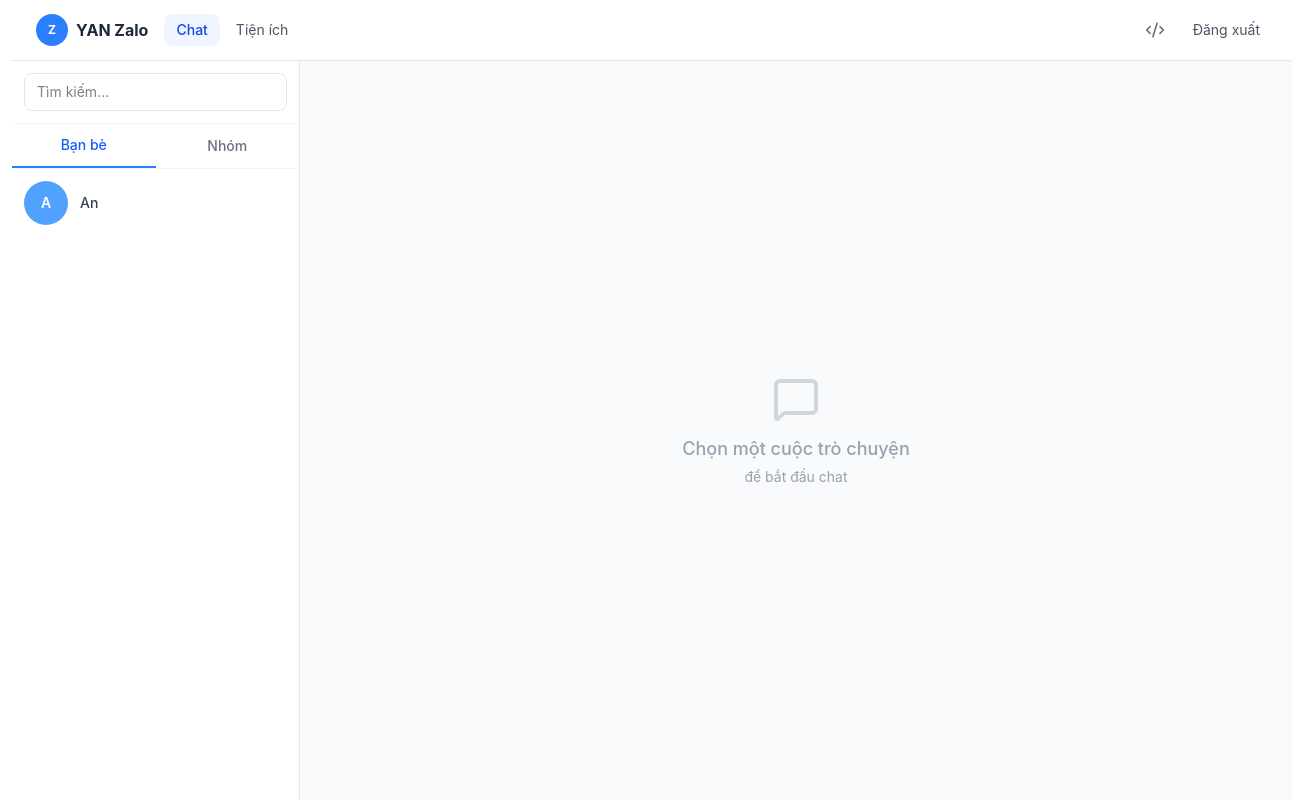
Test: chat message media › preserves the draft and quote on a failed send
The image size is (1292, 800).
Click the button "A An": (46, 203) left=12, top=169, right=299, bottom=237
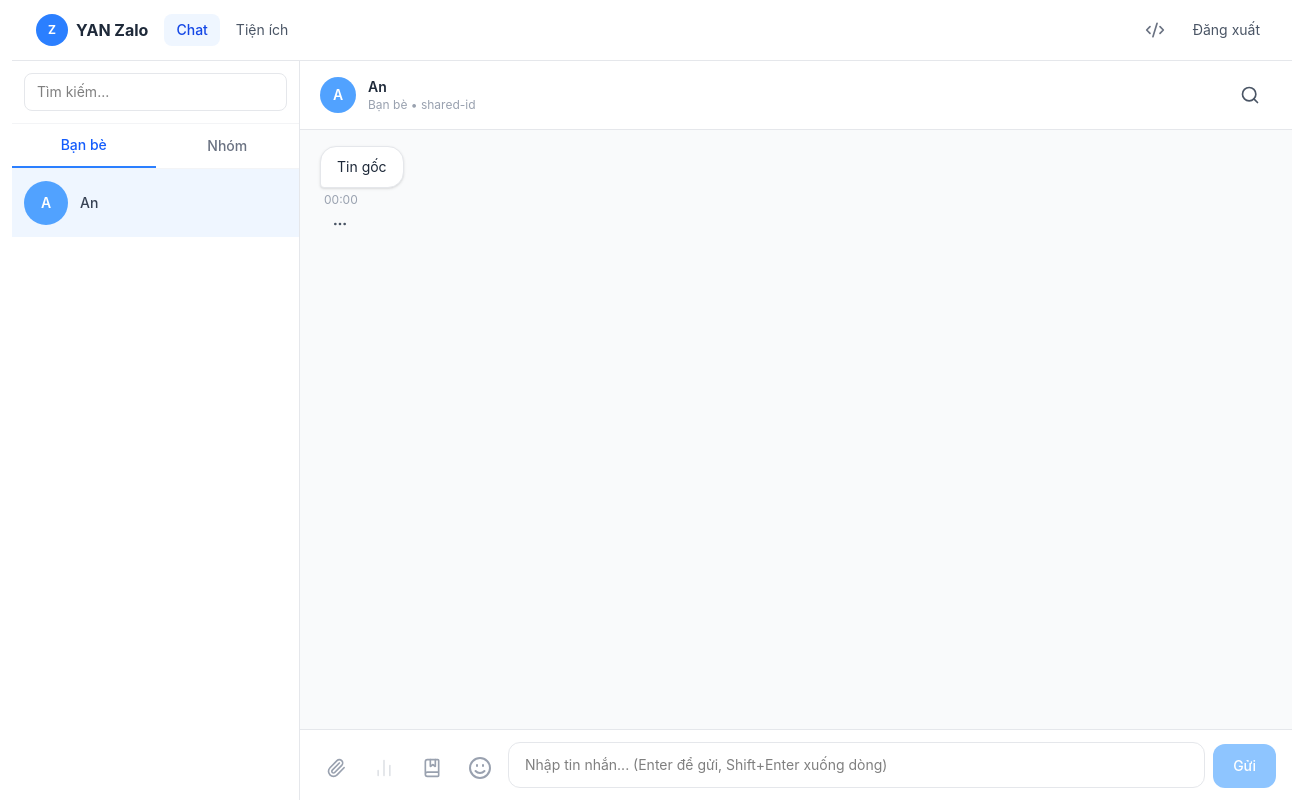
Now the text "Tin gốc" is shown, box left=320, top=146, right=404, bottom=188
In the text box named "Nội dung tin nhắn": (857, 765) left=508, top=742, right=1205, bottom=788, type "Nháp chưa gửi"
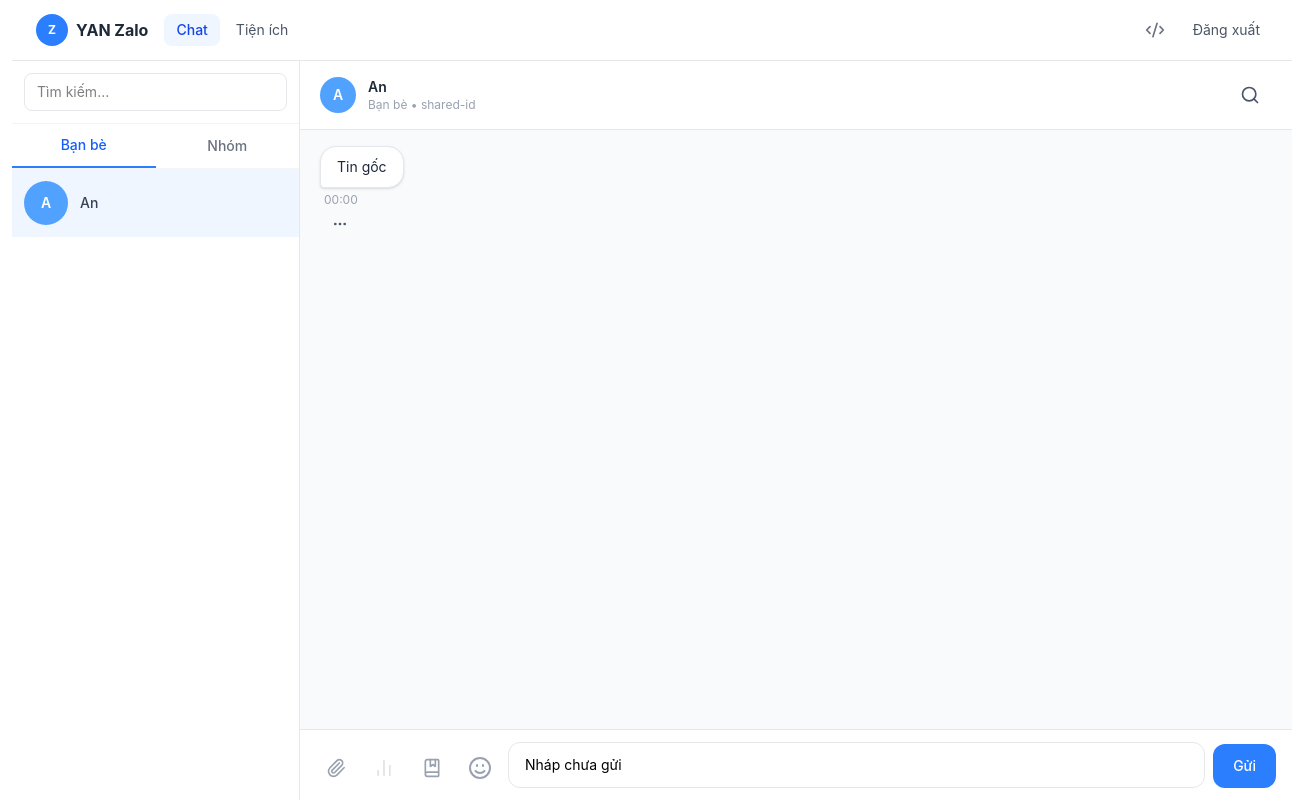
Click the button named "Thao tác tin nhắn": (340, 224) left=324, top=208, right=356, bottom=240
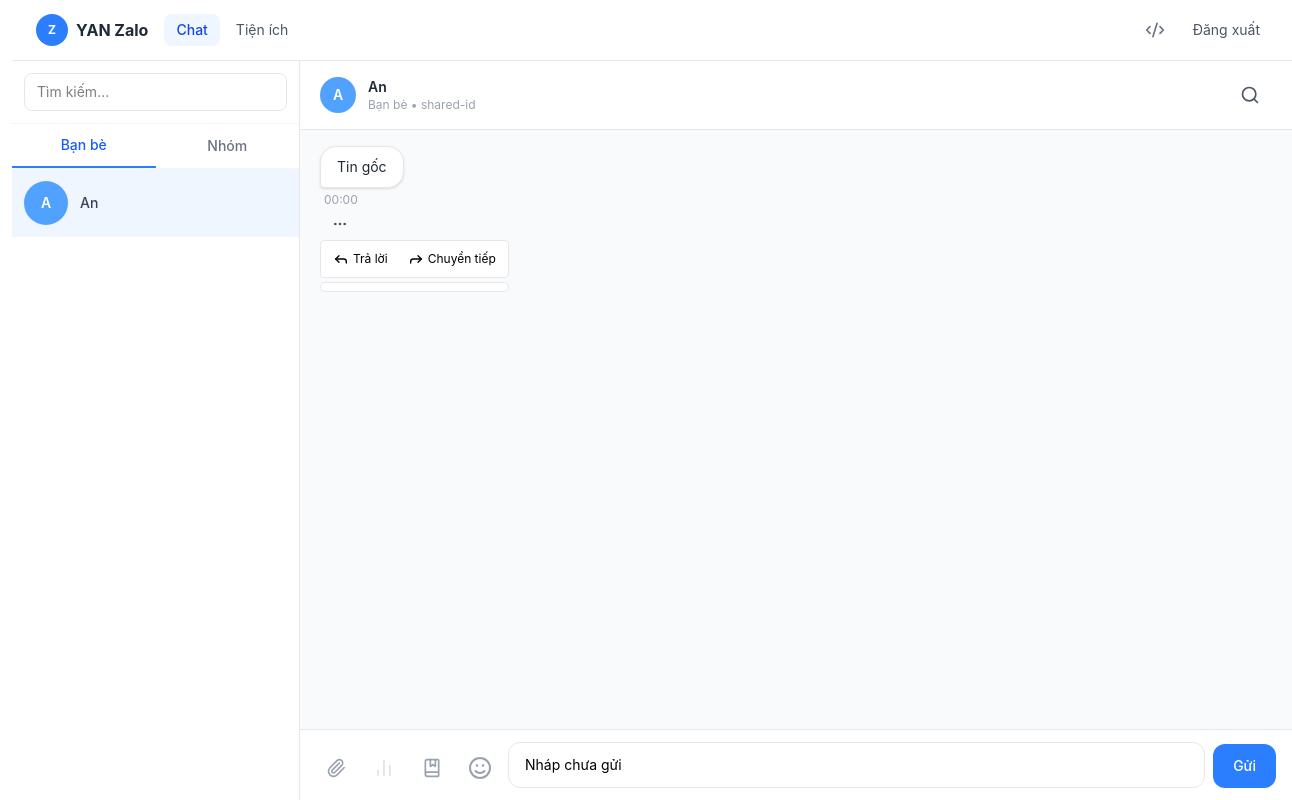
Click the button "Trả lời": (360, 259) left=325, top=241, right=396, bottom=277
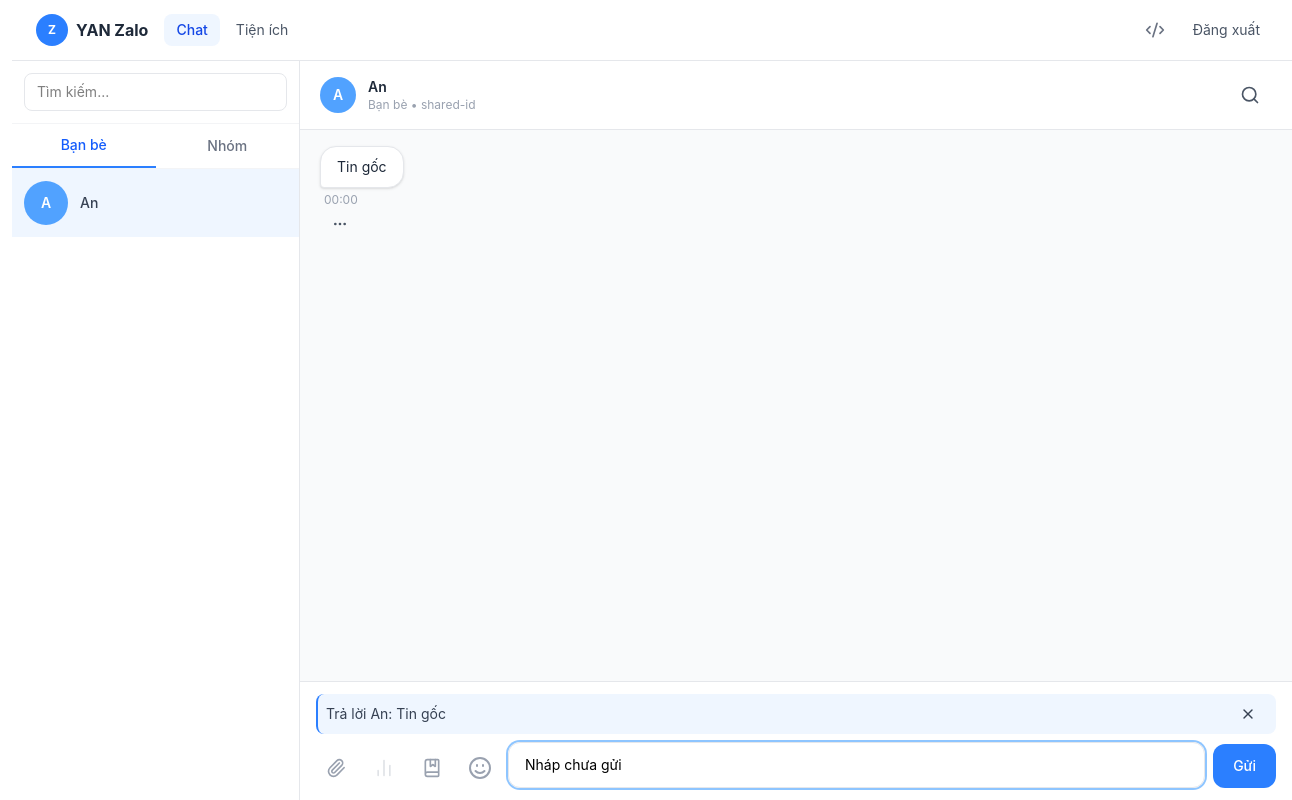
Press Enter in the text box named "Nội dung tin nhắn", box left=508, top=742, right=1205, bottom=788
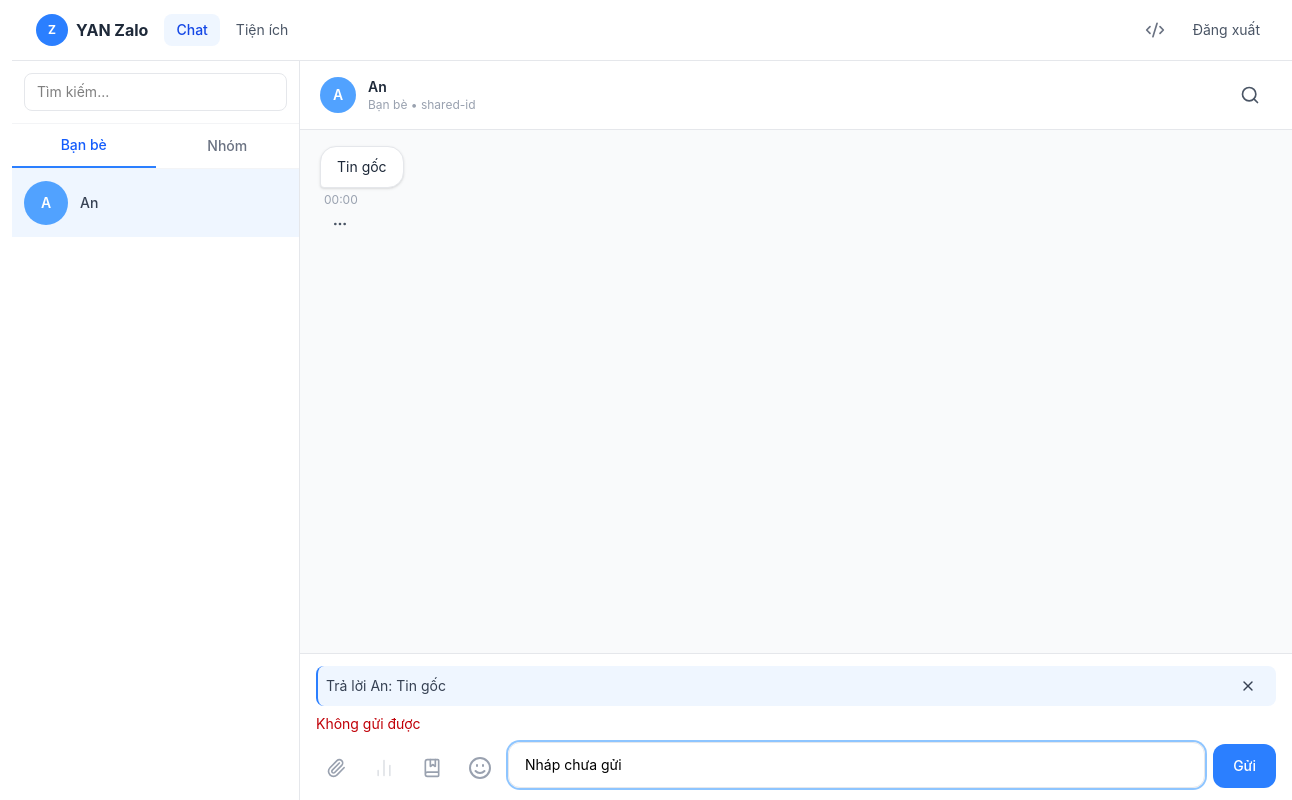
Now the button named "Bỏ trích dẫn" is shown, box left=1228, top=666, right=1268, bottom=706
Now the message "Không gửi được" is shown, box left=316, top=715, right=421, bottom=732
